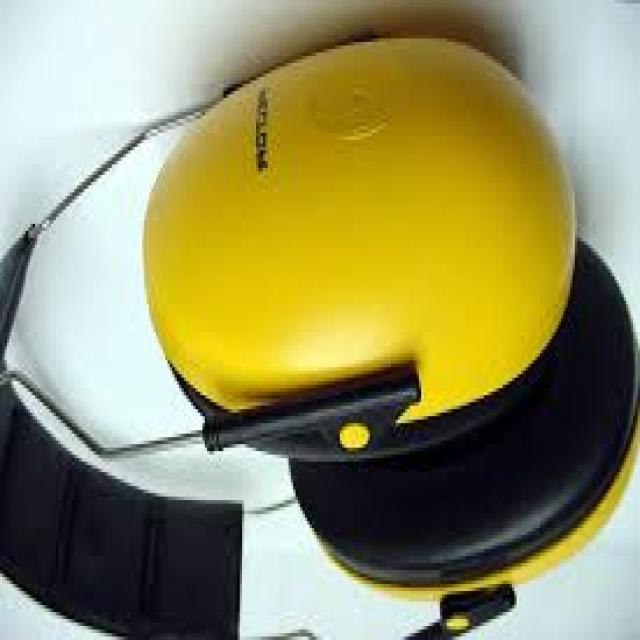Ear-Protection: (135, 35, 579, 469), (301, 264, 635, 628)
